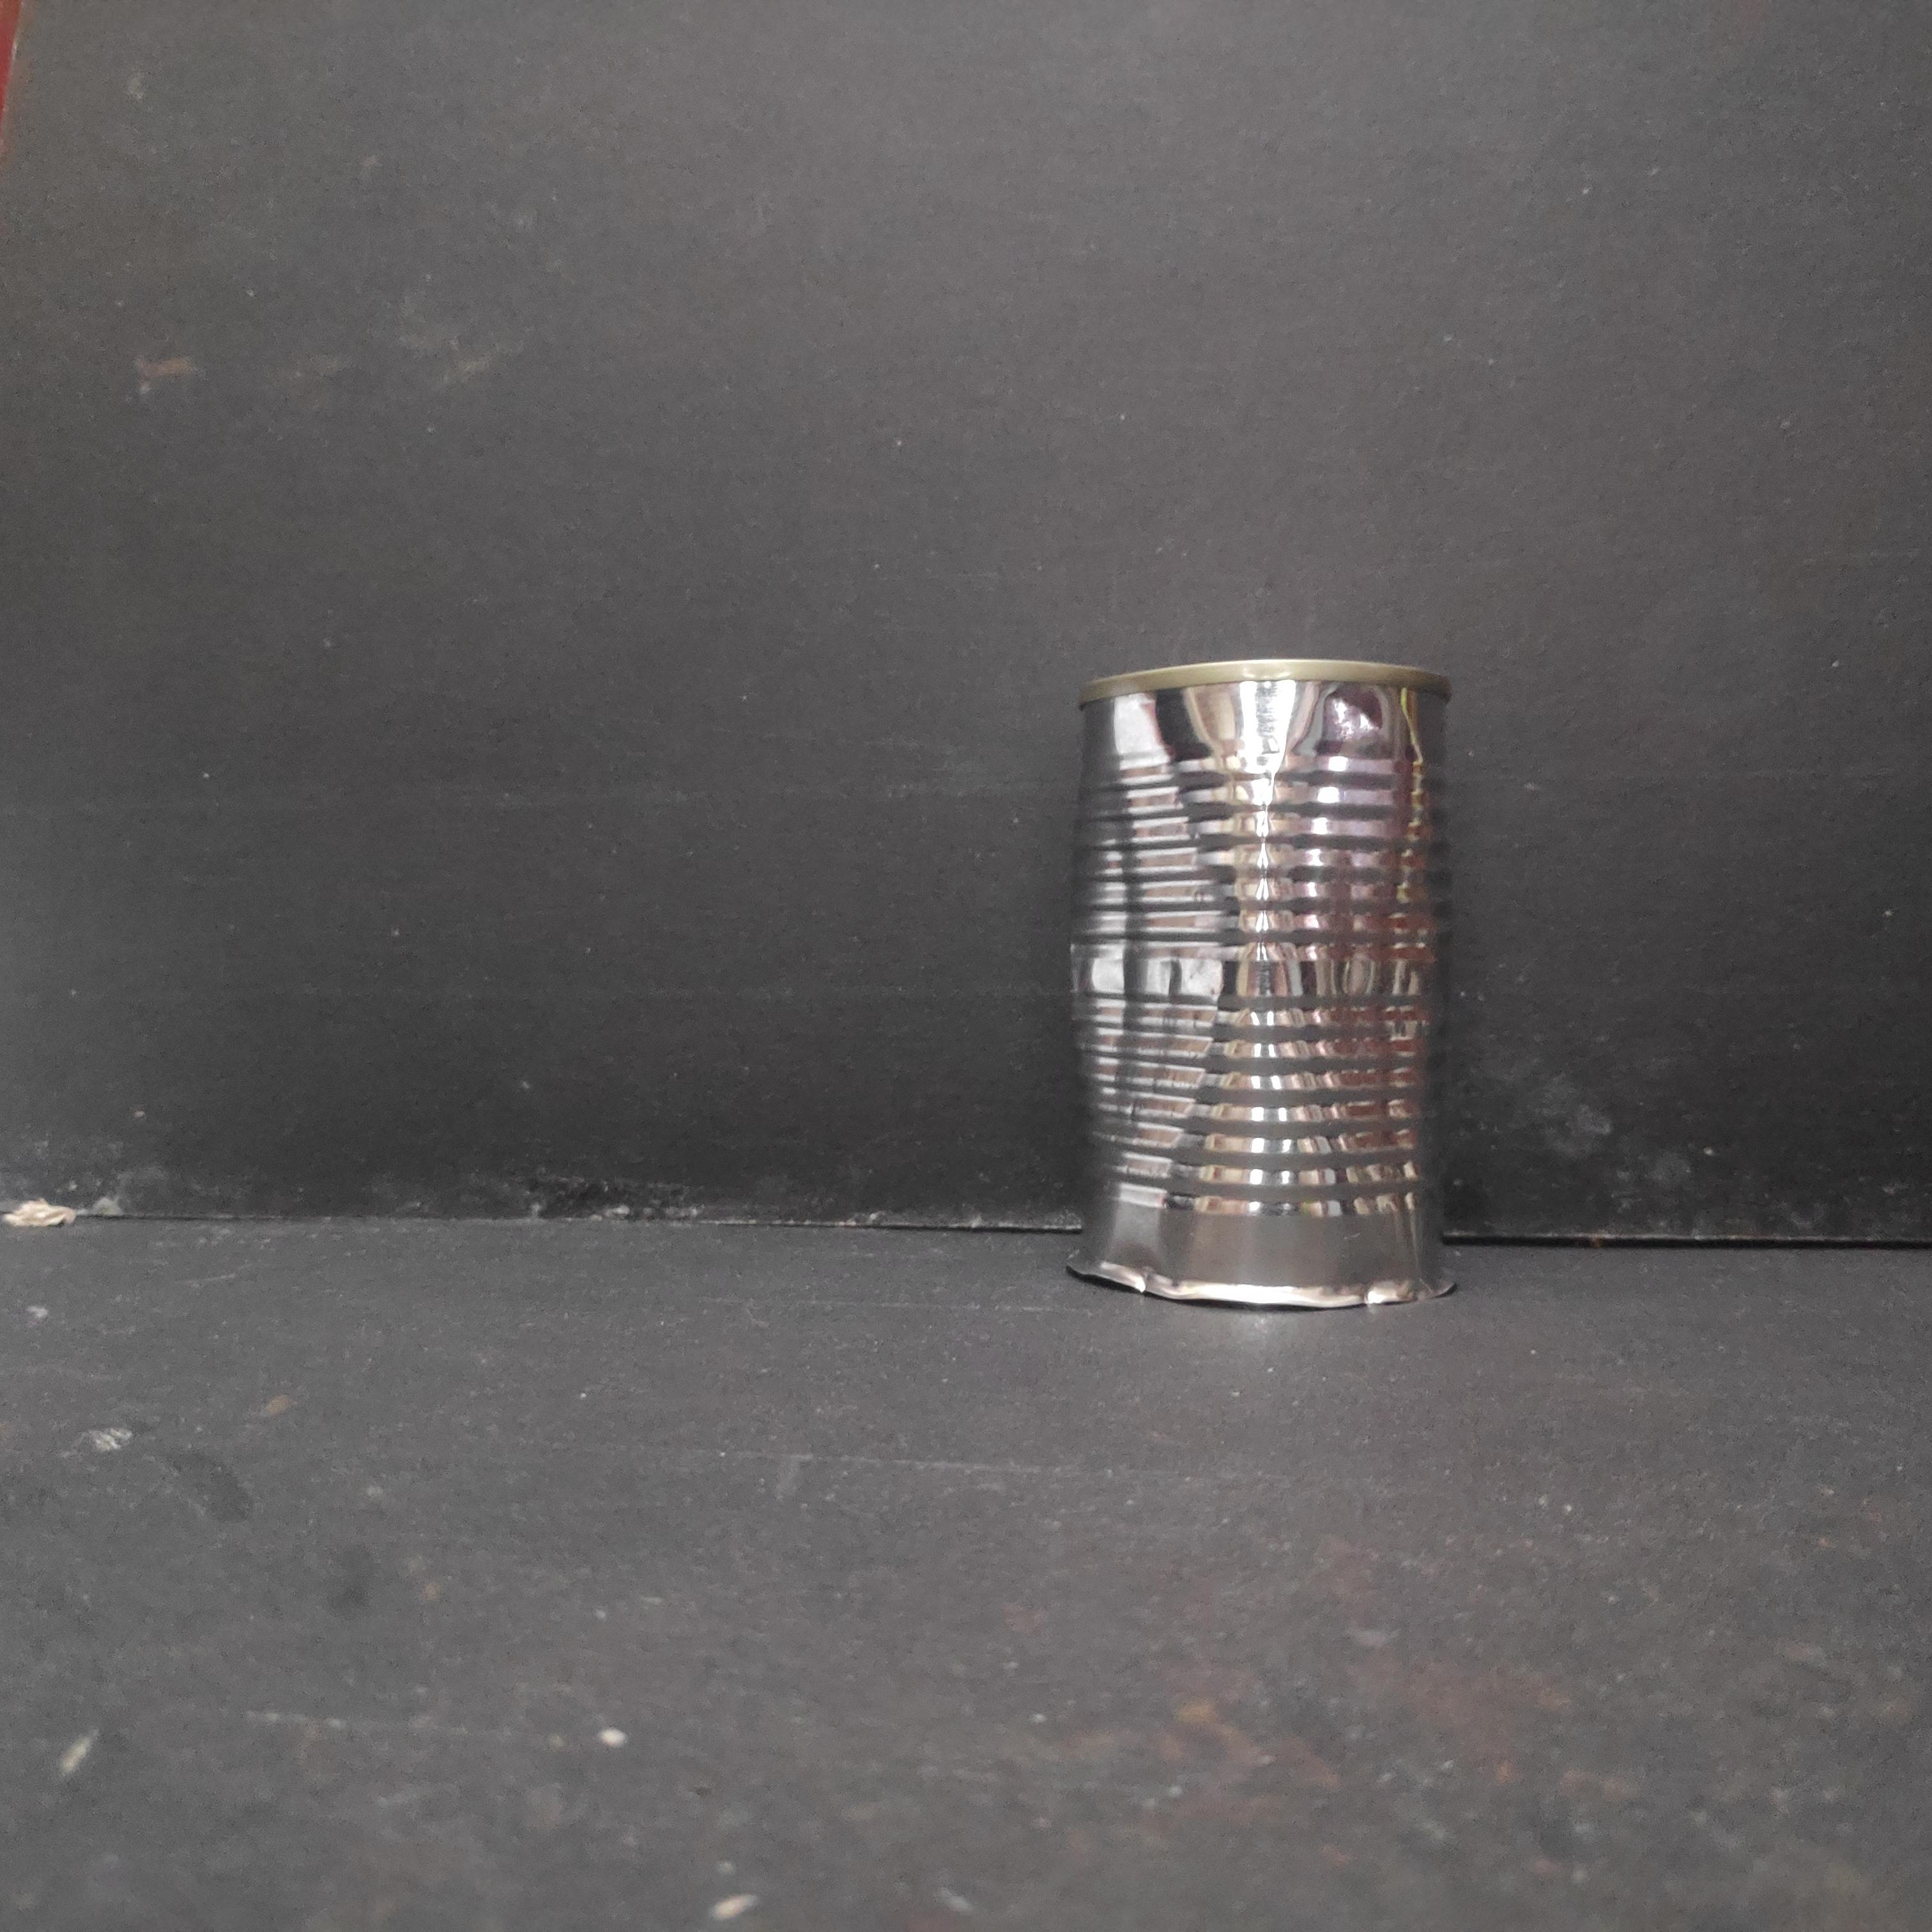Minor Defect: (1049, 649, 1456, 1320)
